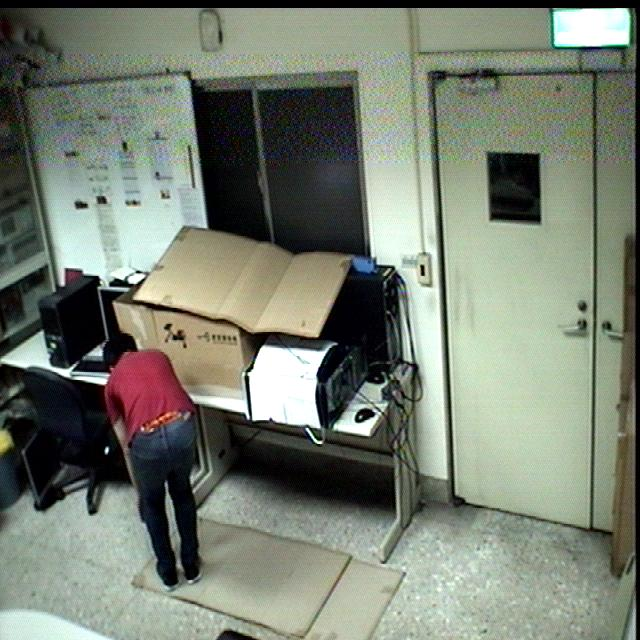bend: (95, 323, 219, 594)
